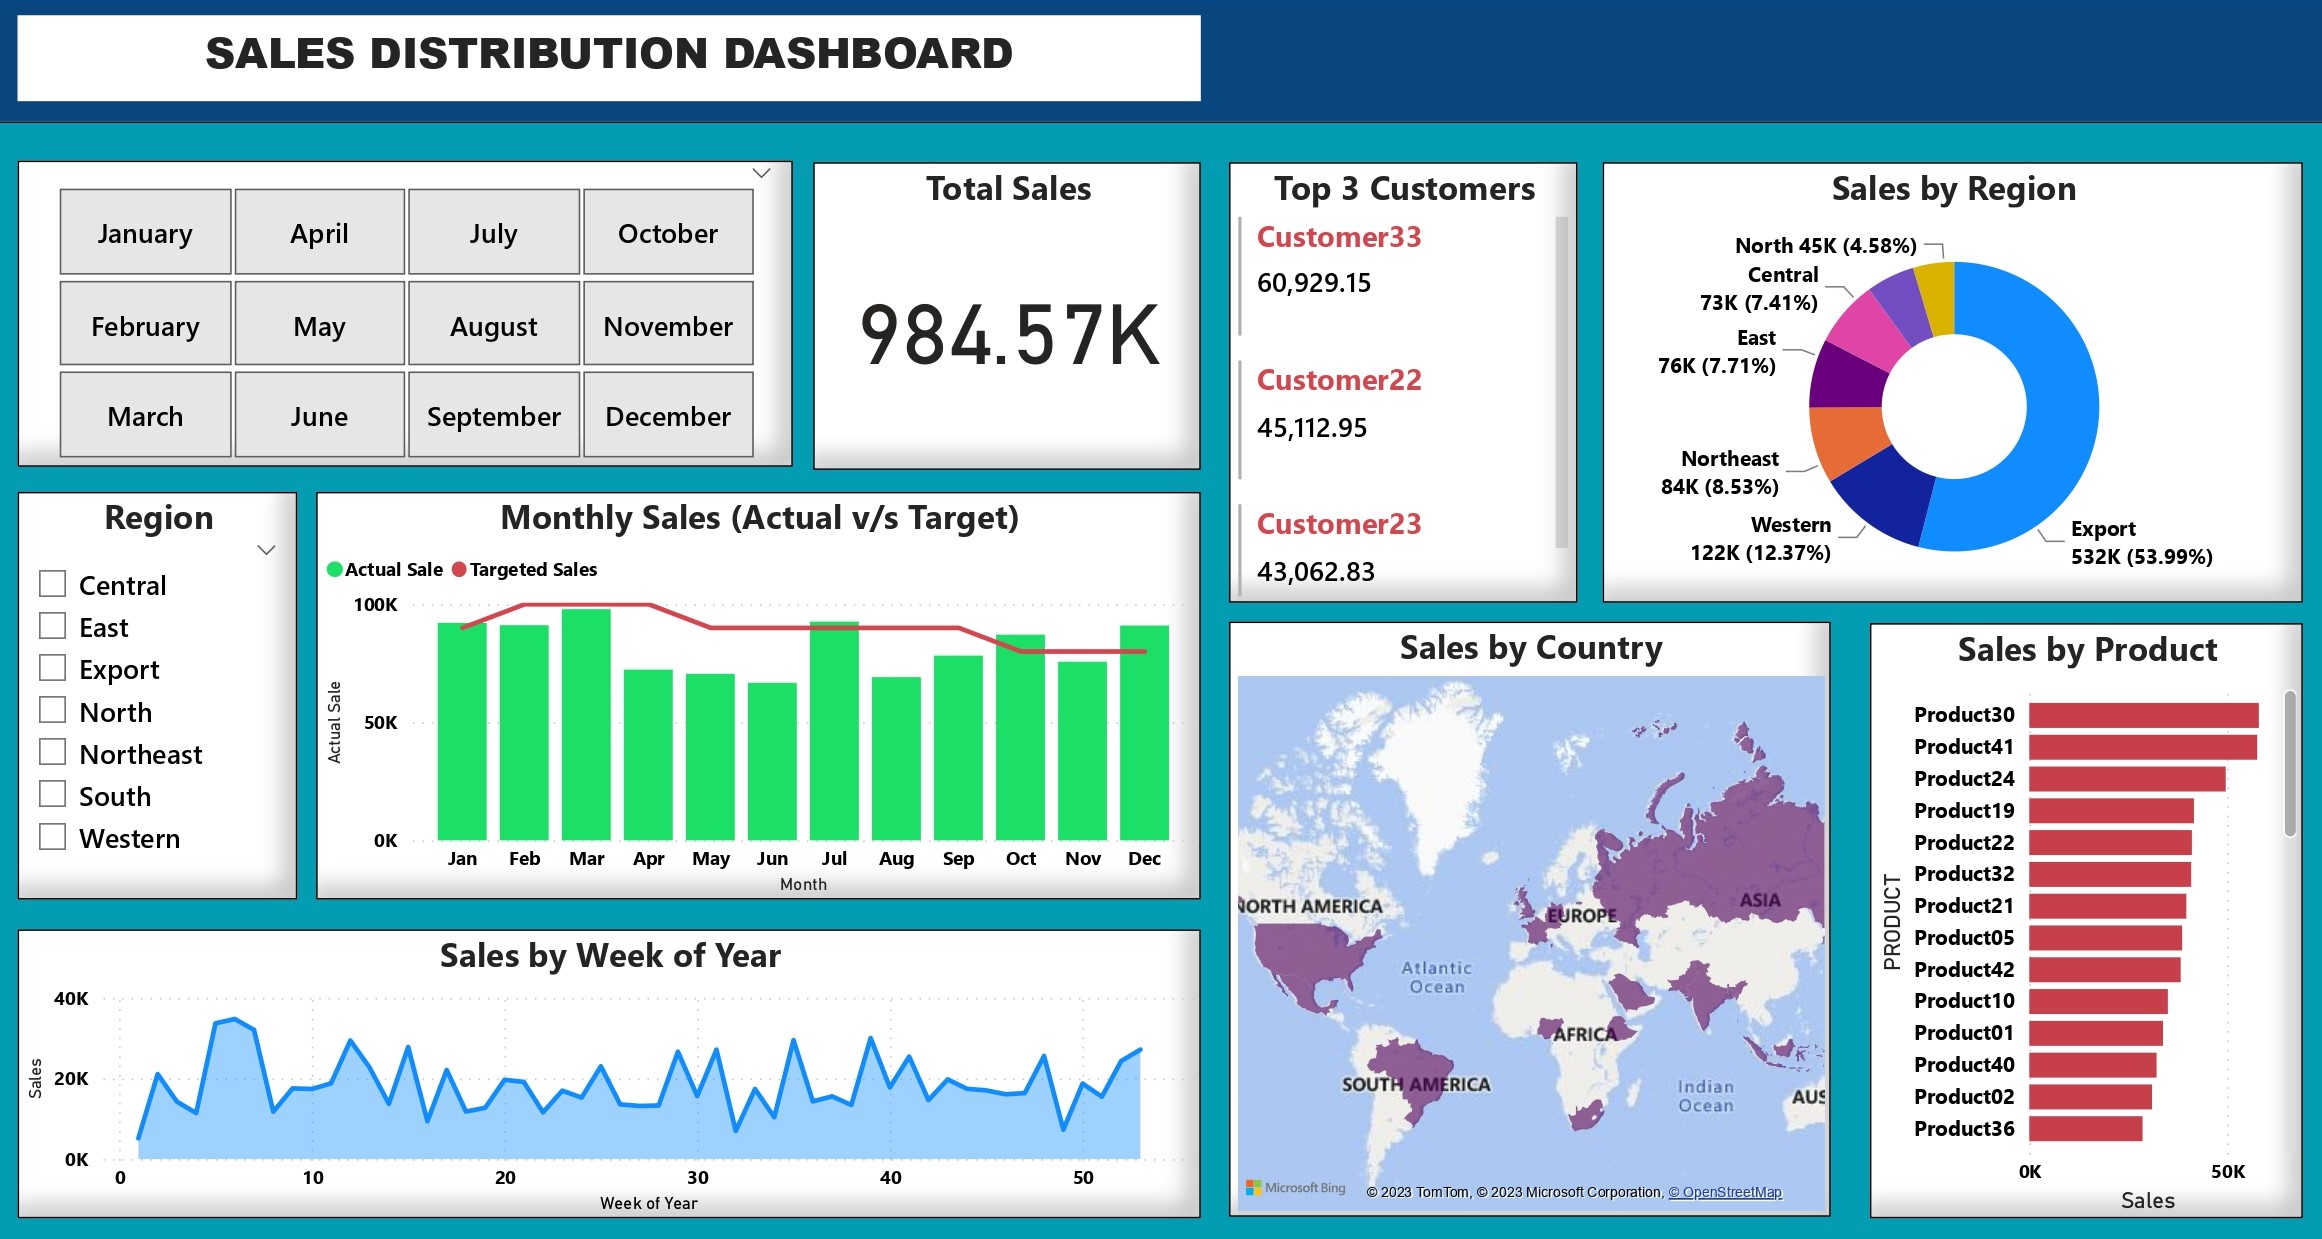

This screenshot's page, from the dashboard's own definition file:
{"tool":"powerbi","page":{"name":"Page 1","canvas":[1500,800],"ordinal":0},"visuals":[{"type":"slicer","fields":{"Values":["InputData.Month Name"]},"box":[16,104.6,496.5,196.8],"z":0},{"type":"card","title":"Total Sales","fields":{"Values":["Sum(InputData.Actual)"]},"box":[524.8,106.4,248.2,196.8],"z":1000},{"type":"slicer","title":"Region","fields":{"Values":["Country.Region"]},"box":[16,317.4,179.1,260.6],"z":2000},{"type":"lineStackedColumnComboChart","title":"Monthly Sales (Actual v/s Target)","fields":{"Category":["TargetData.Month Name"],"Y":["Sum(InputData.Actual)"],"Y2":["Sum(TargetData.Target ($))"]},"box":[207.4,317.4,565.6,260.6],"z":3000},{"type":"areaChart","fields":{"Category":["InputData.Week of Year"],"Y":["Sum(InputData.Actual)"]},"box":[16.2,596.9,756.9,185.2],"z":4000},{"type":"multiRowCard","title":"Top 3 Customers","fields":{"Values":["Country.Customer Name","Sum(InputData.Actual)"]},"box":[791,106.1,222.9,282.2],"z":5000},{"type":"clusteredBarChart","title":"Sales by Product","fields":{"Category":["InputData.PRODUCT"],"Y":["Sum(InputData.Actual)"]},"box":[1200.9,400.9,276.9,381.1],"z":6000},{"type":"donutChart","fields":{"Category":["Country.Region"],"Y":["Sum(InputData.Actual)"]},"box":[1030.1,106.1,447.6,282.2],"z":7000},{"type":"filledMap","fields":{"Category":["Country.Country"]},"box":[790.7,400,385.2,381.5],"z":8000},{"type":"shape","box":[1.8,0,1497.5,80.9],"z":9000},{"type":"textbox","box":[16,12.4,757.1,55],"z":9003}]}

Visuals, with their boxes in screenshot pixels (x1, y1, x2, y2), scaled from the page's 1500x800 canvas onto the 2322x1239 screenshot:
slicer - InputData.Month Name: region(25, 162, 793, 467)
"Total Sales" card: region(812, 165, 1197, 470)
"Region" slicer: region(25, 492, 302, 895)
"Monthly Sales (Actual v/s Target)" lineStackedColumnComboChart: region(321, 492, 1197, 895)
areaChart - InputData.Week of Year x Sum(InputData.Actual): region(25, 924, 1197, 1211)
"Top 3 Customers" multiRowCard: region(1224, 164, 1570, 601)
"Sales by Product" clusteredBarChart: region(1859, 621, 2288, 1211)
donutChart - Country.Region x Sum(InputData.Actual): region(1595, 164, 2287, 601)
filledMap - Country.Country: region(1224, 620, 1820, 1210)
shape: region(3, 0, 2321, 125)
textbox: region(25, 19, 1197, 104)
